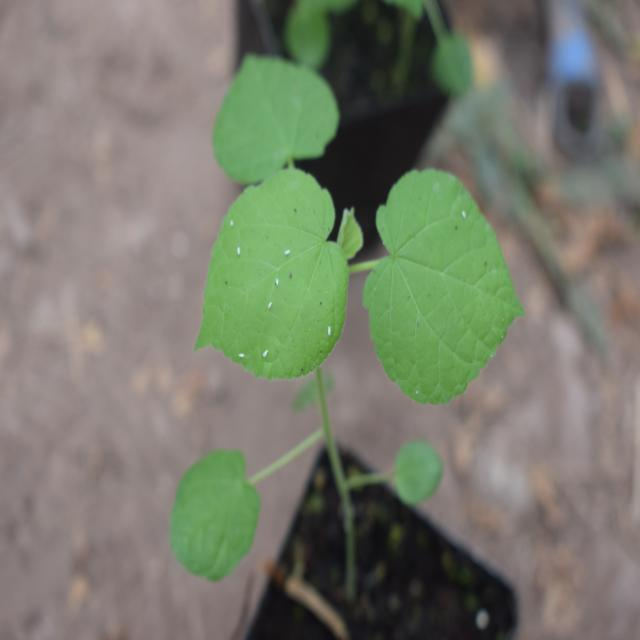abutilon theophrasti: (135, 45, 520, 586)
